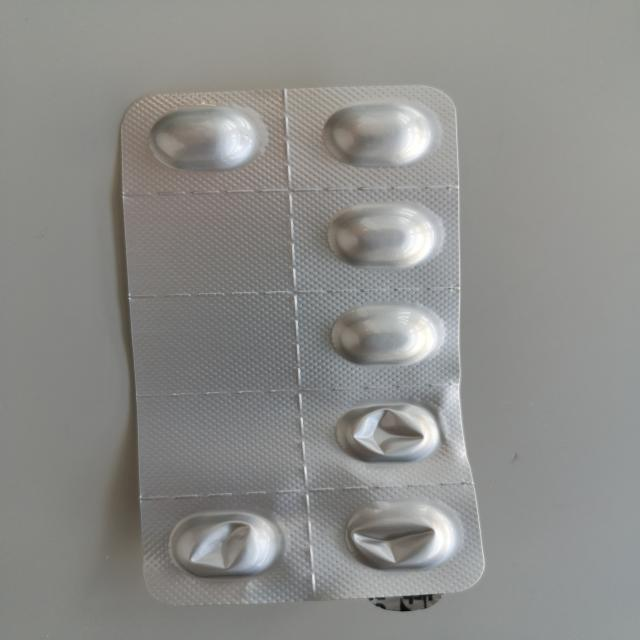Empty: (161, 508, 291, 583), (337, 497, 465, 572), (329, 396, 449, 467)
Pill: (315, 99, 439, 169), (324, 301, 448, 371), (143, 103, 265, 173), (321, 200, 444, 269)
